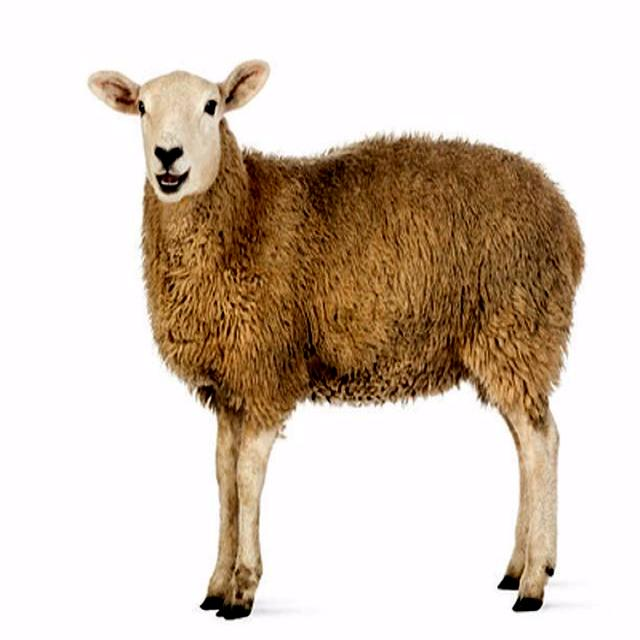sheep: (89, 57, 583, 619)
